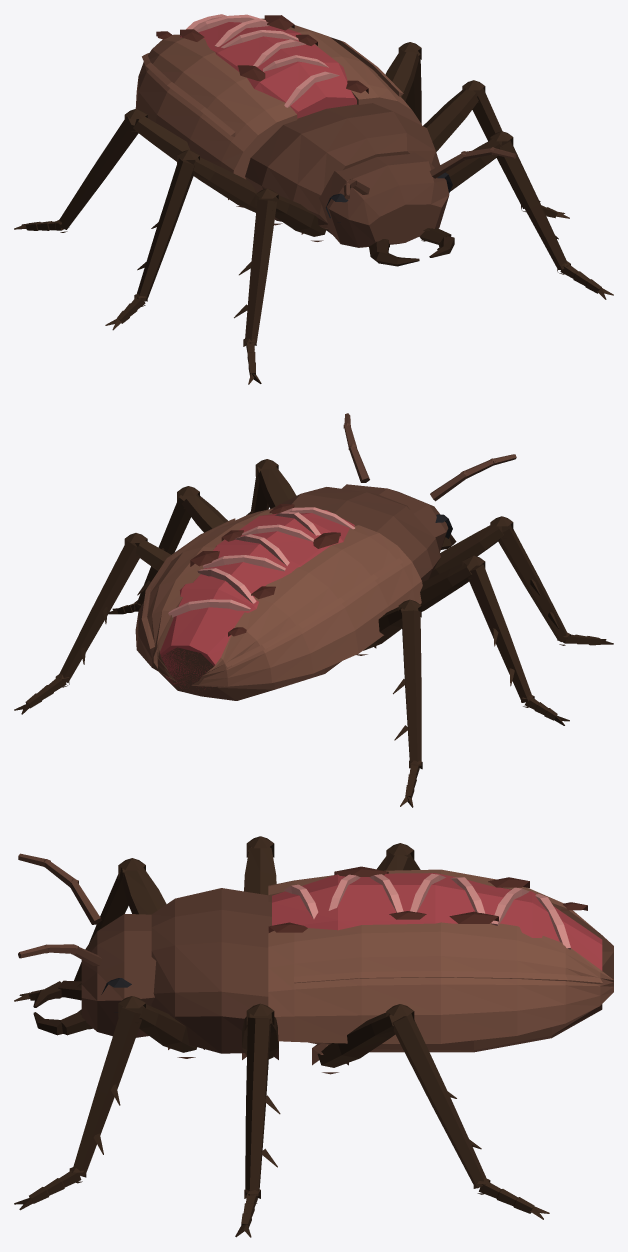
The model's file is knitter.glb.
The picture shows the model from 3 angles, top to bottom: view 1: azimuth 30°, elevation 25°; view 2: azimuth 150°, elevation 25°; view 3: azimuth 270°, elevation 25°; orthographic projection. The views are drawn at different scales.
Visible parts, largest first — view 1: BeetlePlate_01, ThoraxCore, HeadBase001, knit_flesh, BeetlePlate_00, knit_strand, Tibia001, Tibia003, Tibia000, Tibia005, Femur003, Femur002 (+7 smaller); view 2: BeetlePlate_01, knit_flesh, ThoraxCore, BeetlePlate_00, knit_strand, BeetleBodyInner, Tibia005, Tibia004, Tibia003, Tibia001, Femur001, HeadBase001 (+7 smaller); view 3: BeetlePlate_00, ThoraxCore, knit_flesh, HeadBase001, Tibia004, Tibia002, Tibia000, knit_strand, Femur004, BeetleBodyInner, knit_scab, BeetlePlate_01 (+7 smaller).
Part boxes in pixels (box(x1,y1,x2,y2)): BeetlePlate_01: box(135, 34, 297, 179); ThoraxCore: box(245, 103, 439, 229); HeadBase001: box(319, 152, 449, 247); knit_flesh: box(180, 22, 356, 118); BeetlePlate_00: box(261, 18, 421, 125); knit_strand: box(186, 14, 339, 107); Tibia001: box(234, 199, 276, 344); Tibia003: box(137, 158, 194, 301); Tibia000: box(497, 140, 568, 269); Tibia005: box(58, 116, 138, 229); Femur003: box(186, 157, 257, 212); Femur002: box(423, 88, 478, 151); BeetlePlate_01: box(191, 525, 422, 687); knit_flesh: box(160, 510, 354, 691); ThoraxCore: box(270, 487, 440, 581); BeetlePlate_00: box(135, 508, 273, 682); knit_strand: box(168, 507, 354, 617); BeetleBodyInner: box(159, 647, 341, 700); Tibia005: box(393, 610, 421, 766); Tibia004: box(59, 541, 140, 682); Tibia003: box(468, 564, 532, 702); Tibia001: box(498, 524, 568, 641); Femur001: box(429, 524, 504, 578); HeadBase001: box(342, 484, 448, 552); BeetlePlate_00: box(268, 922, 613, 1043); ThoraxCore: box(151, 888, 271, 1053); knit_flesh: box(272, 873, 602, 970); HeadBase001: box(81, 913, 156, 1037); Tibia004: box(392, 1013, 486, 1188); Tibia002: box(245, 1017, 280, 1195); Tibia000: box(71, 1007, 142, 1176); knit_strand: box(284, 873, 570, 949); Femur004: box(317, 1012, 403, 1067); BeetleBodyInner: box(308, 1004, 602, 1052); knit_scab: box(268, 866, 587, 932); BeetlePlate_01: box(268, 869, 613, 979).
Bounding box in the file's own units: 3.29 × 1.27 × 3.09.
